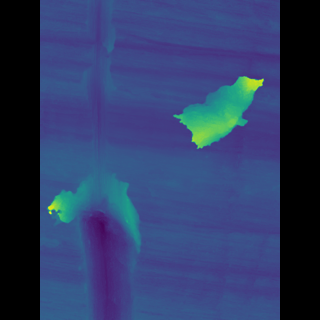Loch: (75, 0, 149, 320), (173, 70, 232, 156)
